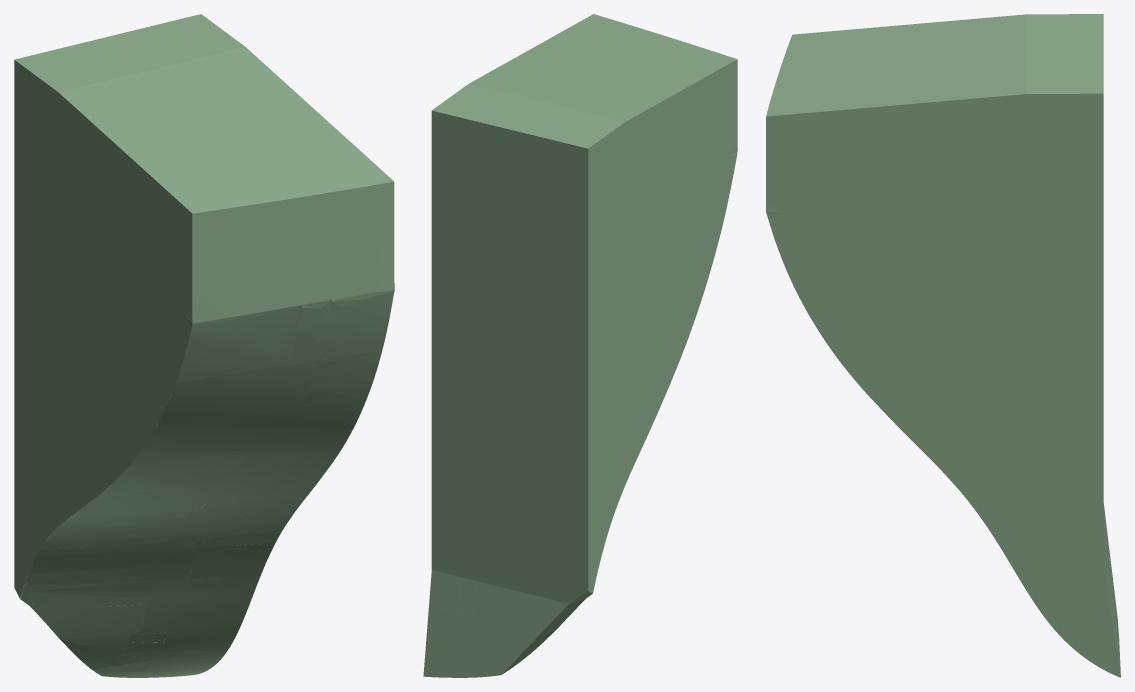
The model's file is NO_1_DIESEL_OIL_TK_SB.glb.
The picture shows the model from 3 angles, left to right: view 1: azimuth 30°, elevation 25°; view 2: azimuth 150°, elevation 25°; view 3: azimuth 270°, elevation 25°; orthographic projection. The views are drawn at different scales.
Parts seen in each view (by area): view 1: PL_TransxFR45S_021002-12.5_NVA_1993, PL_TransxFR45S_019002-12.5_NVA_1993, PL_TransxFR45S_018004-12.5_NVA_1993, PL_TransxFR45S_020001-12.5_NVA_1993, PL_OuterShellxEPRS_059001-17_NVA_1993, PL_UDxEPRS_052001-14.5_NVA_1993, PL_TransxFR45S_016001-14.5_NVA_1993, PL_TransxFR45S_017001-14.5_NVA_1993, PL_UDxEPRS_054001-14.5_NVA_1993, PL_OuterShellxEPRS_053001-17_NVA_1993, PL_UDxEPRS_046002-14.5_NVA_1993, PL_OuterShellxEPRS_070001-17_NVA_1993 (+57 smaller); view 2: PL_TransxFR45S_021002-12.5_NVA_1993, PL_LBHDxEPRS_019001-15.5_NVA_1993, PL_TransxFR45S_019002-12.5_NVA_1993, PL_TransxFR45S_018004-12.5_NVA_1993, PL_LBHDxEPRS_015001-15_NVA_1993, PL_TransxFR45S_020001-12.5_NVA_1993, PL_LBHDxEPRS_017001-13.5_NVA_1993, PL_LBHDxEPRS_014002-16.5_NVA_1993, PL_LBHDxEPRS_011001-17_NVA_1993, PL_LBHDxEPRS_002009-17_NVA32_1993, PL_LBHDxEPRS_010002-18_NVA_1993, PL_TransxFR45S_016001-14.5_NVA_1993 (+52 smaller); view 3: PL_SideTransBHDxBHD51S_009003-14_NVA_1993, PL_SideTransBHDxBHD51S_010002-14_NVA32_1993, PL_SideTransBHDxBHD51S_006002-15.5_NVA32_1993, PL_SideTransBHDxBHD51S_004002-17_NVA32_1993, PL_SideTransBHDxBHD51S_015004-13.5_NVA_1993, PL_SideTransBHDxBHD51S_012003-13.5_NVA_1993, PL_SideTransBHDxBHD51S_005002-15.5_NVA32_1993, PL_SideTransBHDxBHD51S_013008-13.5_NVA_1993, PL_SideTransBHDxBHD51S_014003-13.5_NVA32_1993, PL_SideTransBHDxBHD51S_008004-14.5_NVA32_1993, PL_SideTransBHDxBHD51S_007005-14.5_NVA32_1993, PL_SideTransBHDxBHD51S_008003-14.5_NVA32_1993 (+30 smaller).
Part boxes in pixels (box(x1,y1,x2,y2)): PL_TransxFR45S_021002-12.5_NVA_1993: box(14, 60, 98, 224); PL_TransxFR45S_019002-12.5_NVA_1993: box(100, 229, 192, 381); PL_TransxFR45S_018004-12.5_NVA_1993: box(14, 166, 98, 325); PL_TransxFR45S_020001-12.5_NVA_1993: box(100, 130, 192, 292); PL_OuterShellxEPRS_059001-17_NVA_1993: box(176, 305, 302, 381); PL_UDxEPRS_052001-14.5_NVA_1993: box(104, 107, 259, 179); PL_TransxFR45S_016001-14.5_NVA_1993: box(99, 326, 175, 443); PL_TransxFR45S_017001-14.5_NVA_1993: box(14, 264, 76, 392); PL_UDxEPRS_054001-14.5_NVA_1993: box(155, 153, 306, 213); PL_OuterShellxEPRS_053001-17_NVA_1993: box(156, 365, 288, 426); PL_UDxEPRS_046002-14.5_NVA_1993: box(59, 67, 204, 128); PL_OuterShellxEPRS_070001-17_NVA_1993: box(192, 197, 301, 258); PL_TransxFR45S_021002-12.5_NVA_1993: box(588, 103, 659, 234); PL_LBHDxEPRS_019001-15.5_NVA_1993: box(500, 127, 588, 216); PL_TransxFR45S_019002-12.5_NVA_1993: box(660, 129, 737, 266); PL_TransxFR45S_018004-12.5_NVA_1993: box(588, 186, 659, 319); PL_LBHDxEPRS_015001-15_NVA_1993: box(500, 298, 588, 384); PL_TransxFR45S_020001-12.5_NVA_1993: box(660, 59, 737, 182); PL_LBHDxEPRS_017001-13.5_NVA_1993: box(500, 247, 588, 319); PL_LBHDxEPRS_014002-16.5_NVA_1993: box(500, 392, 588, 459); PL_LBHDxEPRS_011001-17_NVA_1993: box(500, 438, 588, 502); PL_LBHDxEPRS_002009-17_NVA32_1993: box(431, 467, 480, 555); PL_LBHDxEPRS_010002-18_NVA_1993: box(500, 483, 588, 546); PL_TransxFR45S_016001-14.5_NVA_1993: box(659, 221, 723, 337); PL_SideTransBHDxBHD51S_009003-14_NVA_1993: box(775, 239, 955, 319); PL_SideTransBHDxBHD51S_010002-14_NVA32_1993: box(977, 239, 1103, 319); PL_SideTransBHDxBHD51S_006002-15.5_NVA32_1993: box(977, 389, 1103, 465); PL_SideTransBHDxBHD51S_004002-17_NVA32_1993: box(977, 465, 1103, 547); PL_SideTransBHDxBHD51S_015004-13.5_NVA_1993: box(955, 94, 1053, 165); PL_SideTransBHDxBHD51S_012003-13.5_NVA_1993: box(814, 105, 893, 186); PL_SideTransBHDxBHD51S_005002-15.5_NVA32_1993: box(863, 389, 977, 465); PL_SideTransBHDxBHD51S_013008-13.5_NVA_1993: box(955, 186, 1053, 239); PL_SideTransBHDxBHD51S_014003-13.5_NVA32_1993: box(1053, 93, 1103, 186); PL_SideTransBHDxBHD51S_008004-14.5_NVA32_1993: box(977, 353, 1103, 389); PL_SideTransBHDxBHD51S_007005-14.5_NVA32_1993: box(811, 319, 955, 353); PL_SideTransBHDxBHD51S_008003-14.5_NVA32_1993: box(977, 319, 1103, 353).
Size of the model in its own units: 8.51 by 29.05 by 16.
